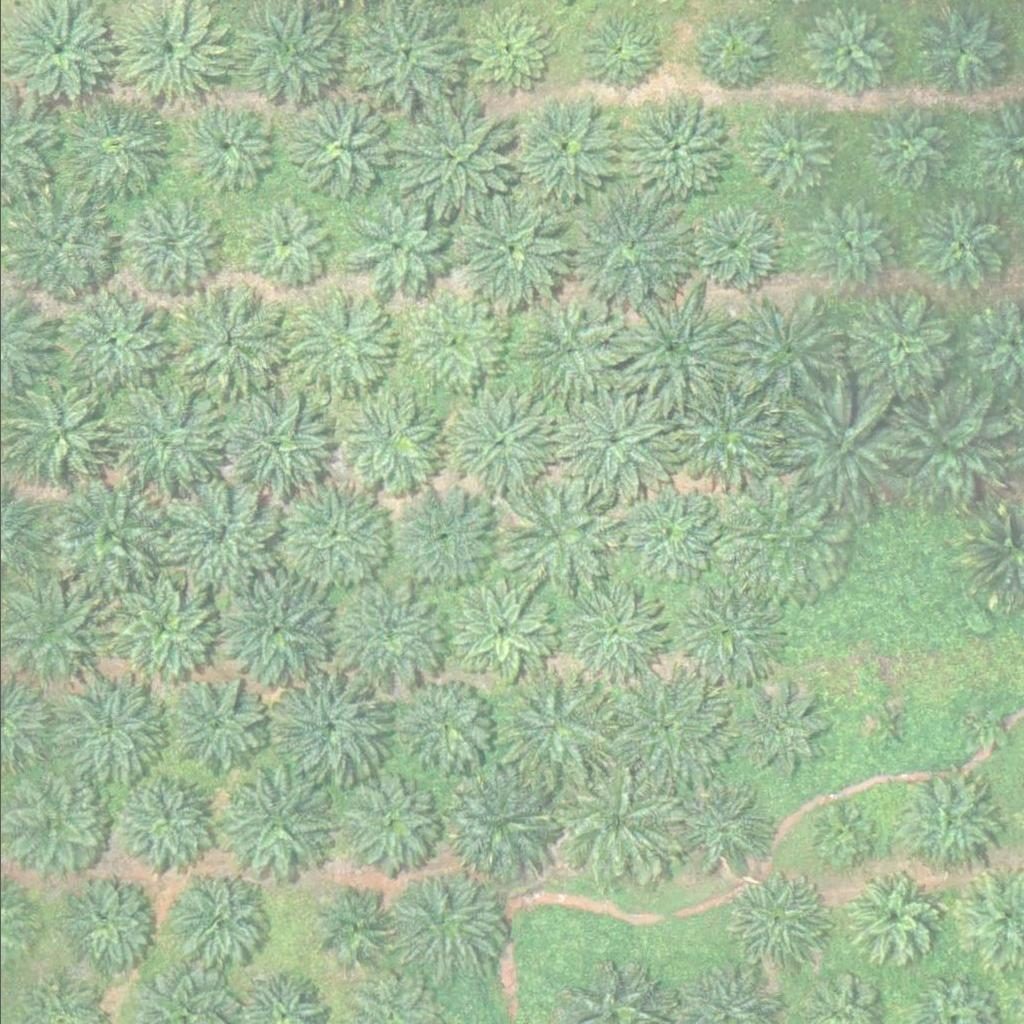Kelapa_Sawit: (723, 482, 837, 595), (891, 394, 1005, 507), (784, 394, 898, 507), (560, 763, 674, 876), (386, 867, 500, 980), (619, 91, 732, 204), (503, 92, 616, 205), (570, 195, 683, 308), (452, 193, 565, 306), (280, 289, 393, 402), (171, 281, 284, 394), (670, 374, 783, 487), (608, 477, 721, 590), (501, 481, 614, 594), (387, 478, 500, 591), (333, 581, 446, 694), (223, 573, 336, 686), (48, 674, 161, 787), (102, 575, 215, 688), (103, 386, 216, 499), (4, 377, 117, 490), (52, 286, 165, 399), (166, 94, 280, 206), (675, 572, 789, 684), (560, 576, 674, 688), (608, 671, 722, 783), (500, 668, 614, 780), (447, 768, 561, 880), (332, 765, 446, 877), (54, 91, 168, 203), (721, 673, 834, 785), (841, 290, 954, 402), (727, 297, 840, 409), (397, 101, 510, 213), (284, 95, 397, 207), (612, 292, 725, 404), (510, 294, 623, 406), (551, 383, 664, 495), (440, 384, 553, 496), (216, 389, 329, 501), (273, 477, 386, 589), (161, 478, 274, 590), (280, 669, 393, 781), (215, 767, 328, 879), (51, 480, 164, 592), (844, 867, 945, 967), (726, 869, 827, 969), (895, 776, 996, 876), (912, 198, 1013, 298), (912, 3, 1013, 103), (347, 194, 448, 294), (401, 290, 502, 390), (341, 390, 442, 490), (454, 580, 555, 680), (163, 675, 264, 775), (667, 775, 768, 875), (60, 872, 161, 972), (115, 772, 216, 872), (3, 773, 104, 873), (119, 197, 219, 297), (398, 676, 498, 776), (165, 865, 265, 965), (804, 200, 892, 288), (687, 205, 775, 293), (862, 102, 950, 190), (577, 9, 665, 97), (463, 6, 551, 94), (744, 109, 833, 196), (804, 9, 893, 96), (689, 7, 777, 94), (241, 203, 329, 290), (320, 888, 396, 963), (810, 803, 873, 866), (961, 709, 999, 746), (870, 705, 908, 742)
